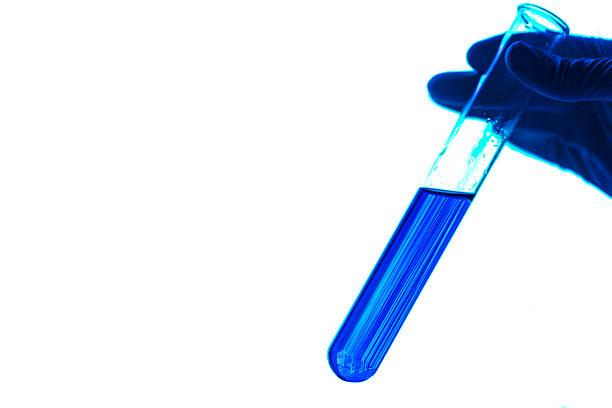Test tube: (277, 0, 581, 387)
